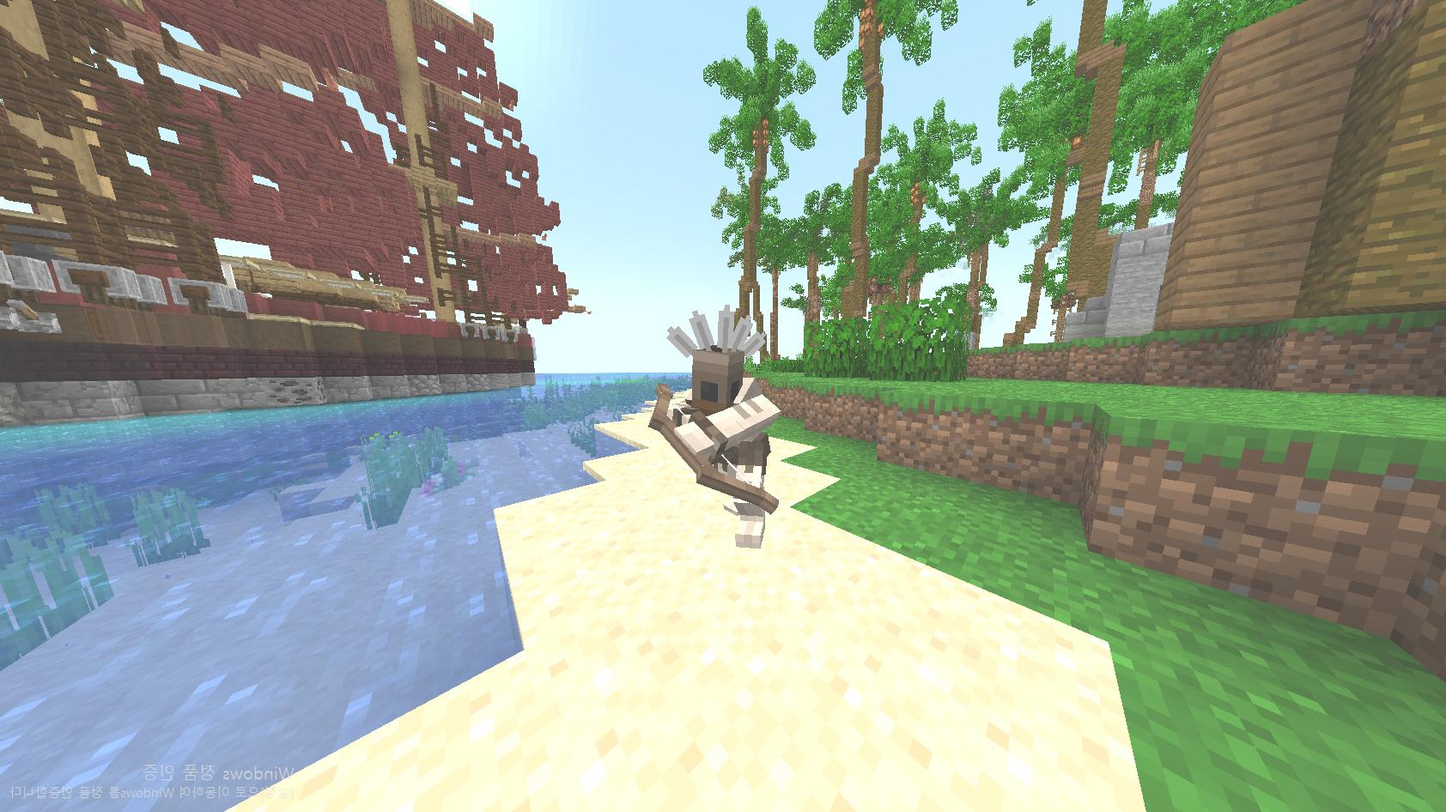bow_indian: (593, 295, 809, 586)
